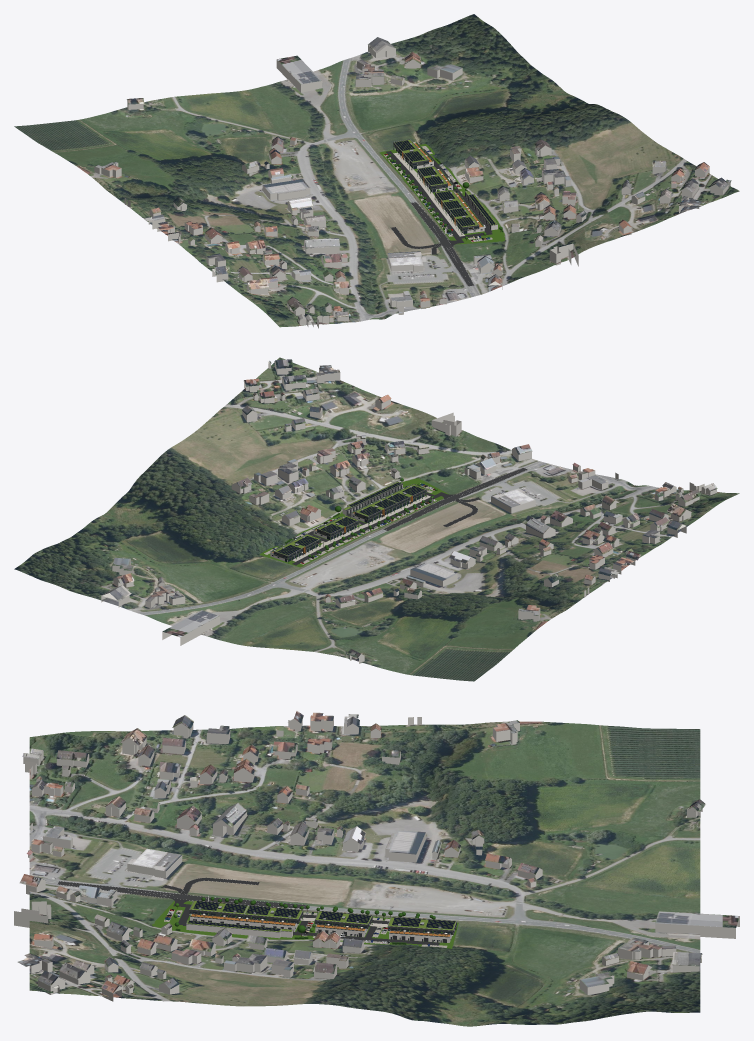
Rendered from teichwiese-v7.glb.
3 views of the same model, one above another, from view 1: azimuth 30°, elevation 25°; view 2: azimuth 150°, elevation 25°; view 3: azimuth 270°, elevation 25° (orthographic). The views are drawn at different scales.
Visible parts, largest first — view 1: Web_Gelaende, Web_Umgebung, Web_Knoten_B54_Fahrbahn, Web_Rasen_Grundstueck, Web_Bauteil_4_Gebaeude, Web_Bauteil_1_Gebaeude, Web_Bauteil_3_Gebaeude, Web_Gehweg, Web_Fahrgasse; view 2: Web_Gelaende, Web_Umgebung, Web_Knoten_B54_Fahrbahn, Web_Rasen_Grundstueck, Web_Bauteil_4_Gebaeude, Web_Bauteil_2_Gebaeude, Web_Bauteil_3_Gebaeude, Web_Bauteil_1_Gebaeude, Web_Garagen_1G, Web_Gehweg; view 3: Web_Gelaende, Web_Umgebung, Web_Knoten_B54_Fahrbahn, Web_Bauteil_4_Gebaeude, Web_Rasen_Grundstueck, Web_Bauteil_3_Gebaeude, Web_Bauteil_2_Gebaeude, Web_Garagen_1G, Web_Bauteil_1_Gebaeude.
Boxes of the visible parts, x1,y1,x2,y2 form: Web_Gelaende: (14,14,739,327); Web_Umgebung: (94,37,731,328); Web_Knoten_B54_Fahrbahn: (390,202,474,286); Web_Rasen_Grundstueck: (379,143,504,244); Web_Bauteil_4_Gebaeude: (393,139,433,169); Web_Bauteil_1_Gebaeude: (448,207,484,233); Web_Bauteil_3_Gebaeude: (417,166,452,192); Web_Gehweg: (393,152,464,236); Web_Fahrgasse: (385,151,463,243); Web_Gelaende: (14,357,739,681); Web_Umgebung: (101,359,717,663); Web_Knoten_B54_Fahrbahn: (383,468,527,530); Web_Rasen_Grundstueck: (259,478,449,567); Web_Bauteil_4_Gebaeude: (270,534,320,562); Web_Bauteil_2_Gebaeude: (351,498,397,523); Web_Bauteil_3_Gebaeude: (313,515,359,540); Web_Bauteil_1_Gebaeude: (384,484,426,509); Web_Garagen_1G: (342,481,402,514); Web_Gehweg: (292,495,430,561); Web_Gelaende: (29,721,700,1026); Web_Umgebung: (14,711,739,1001); Web_Knoten_B54_Fahrbahn: (57,877,307,909); Web_Bauteil_4_Gebaeude: (387,916,456,942); Web_Rasen_Grundstueck: (152,901,458,948); Web_Bauteil_3_Gebaeude: (314,910,372,937); Web_Bauteil_2_Gebaeude: (242,905,303,931); Web_Garagen_1G: (186,920,292,938); Web_Bauteil_1_Gebaeude: (189,900,248,924).
Bounding box in the file's own units: 614 × 61.23 × 650.
Materials: 67 (2 with a texture image).
